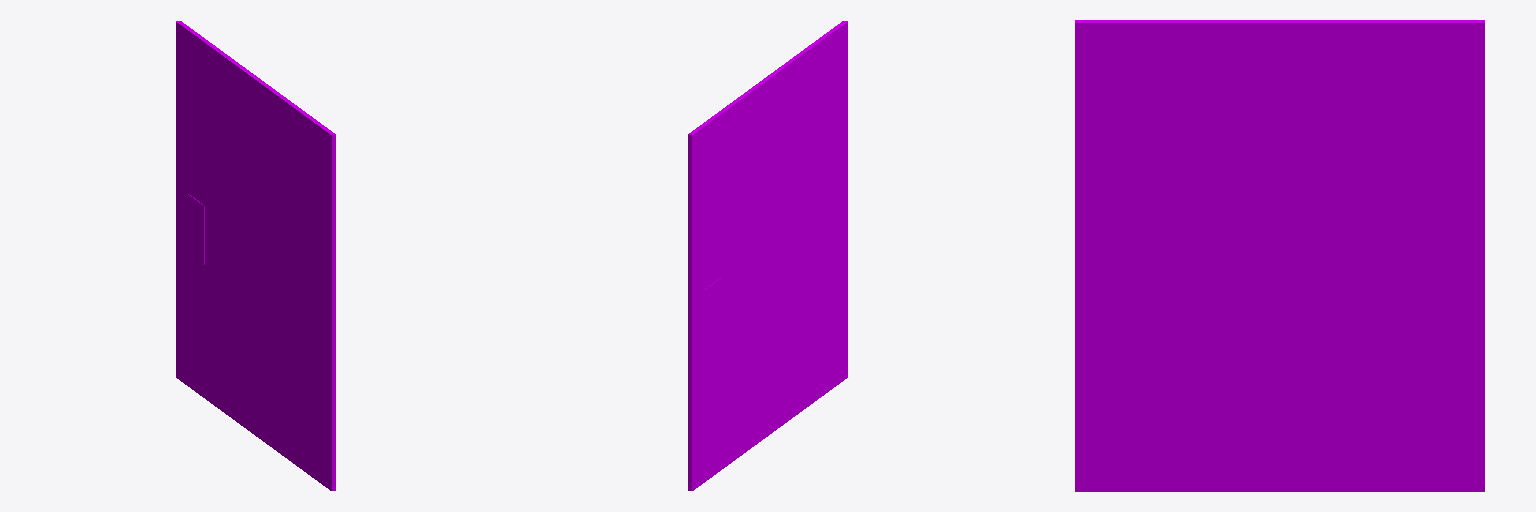
URDF robot description (door_asset):
<robot name="door_asset">
  <material name="Phlox"><color rgba="0.871 0.0 1.0 0.9"/></material>
  <link name="base">
    <inertial>
      <mass value="0.0"/>
      <origin rpy="0 0 0" xyz="0 0 0"/>
      <inertia ixx="0.0" ixy="0.0" ixz="0.0" iyy="0.0" iyz="0.0" izz="0.0"/>
    </inertial>
  </link>
  <link name="door">
    <visual>
      <origin rpy="0 0 0" xyz="0 0 0"/>
      <geometry>
        <mesh filename="door.obj"/>
      </geometry>
      <material name="Phlox"/>
    </visual>
    <collision>
      <origin rpy="0 0 0" xyz="0 0 0"/>
      <geometry>
        <mesh filename="door_vhacd.obj"/>
      </geometry>
    </collision>
    <inertial>
      <mass value="10.0"/>
      <origin rpy="0 0 0" xyz="0 0 0"/>
      <inertia ixx="0.00443333156" ixy="0.0" ixz="0.0" iyy="0.00443333156" iyz="0.0" izz="0.0072"/>
    </inertial>
  </link>
  <joint name="hinge" type="revolute">
    <parent link="base"/>
    <child link="door"/>
    <origin rpy="0 0 0" xyz="0 0 0"/>
    <axis xyz="0 0 1"/>
    <limit lower="0.0" upper="1.57"/>
  </joint>
</robot>

--- What the picture shows (computed from the rendered views, not written in the file) ---
The picture shows the robot from 3 angles, left to right: view 1: azimuth 30°, elevation 25°; view 2: azimuth 150°, elevation 25°; view 3: azimuth 270°, elevation 25°; orthographic projection.
Robot: door_asset — 2 links, 1 joints (1 revolute); root link base; default pose: every joint at zero.
Links seen in each view (by area): view 1: door; view 2: door; view 3: door.
Boxes of the visible links, left/top/right/bottom form: door: left=176, top=21, right=335, bottom=490; door: left=688, top=21, right=847, bottom=490; door: left=1075, top=20, right=1484, bottom=491.
Bounding box of the posed robot: 40 × 1900 × 2400 m (x, y, z).
1 mesh visuals loaded from 1 distinct referenced files (1 OBJ).